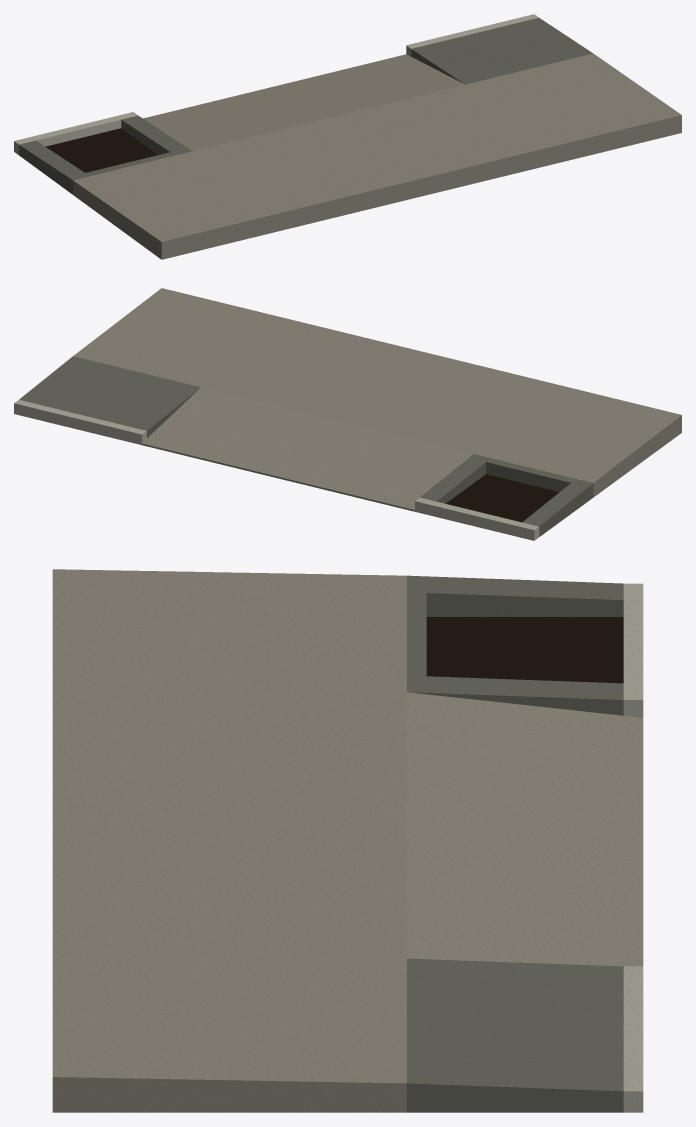
The model's file is elmina-sidewalk-tree-ready.glb.
3 views of the same model, one above another, from view 1: azimuth 30°, elevation 25°; view 2: azimuth 150°, elevation 25°; view 3: azimuth 270°, elevation 25° (orthographic). The views are drawn at different scales.
Parts seen in each view (by area): view 1: tree_ready__VehicleCrossingWalk, tree_ready__ClearWalkWest, tree_ready__VehicleApron, tree_ready__PedestrianApproach, tree_ready__ClearWalkEast, tree_ready__PedestrianService, tree_ready__TreeWellSurround, tree_ready__TreeWellSoil, tree_ready__ServiceEast, tree_ready__Curb_ServiceWest, tree_ready__ClearWalkLink, tree_ready__ServiceLink (+1 smaller); view 2: tree_ready__VehicleCrossingWalk, tree_ready__VehicleApron, tree_ready__ClearWalkWest, tree_ready__PedestrianApproach, tree_ready__TreeWellSurround, tree_ready__PedestrianService, tree_ready__ClearWalkEast, tree_ready__TreeWellSoil, tree_ready__ServiceEast, tree_ready__Curb_ServiceWest, tree_ready__Curb_PedestrianService, tree_ready__ClearWalkLink (+2 smaller); view 3: tree_ready__VehicleCrossingWalk, tree_ready__VehicleApron, tree_ready__ClearWalkWest, tree_ready__PedestrianApproach, tree_ready__ClearWalkEast, tree_ready__PedestrianService, tree_ready__TreeWellSurround, tree_ready__ServiceEast, tree_ready__TreeWellSoil, tree_ready__ClearWalkLink, tree_ready__Curb_ServiceWest, tree_ready__ServiceLink (+2 smaller).
Boxes of the visible parts, box(x1,y1,x2,y2) form: tree_ready__VehicleCrossingWalk: box(193, 84, 553, 230); tree_ready__ClearWalkWest: box(73, 151, 280, 259); tree_ready__VehicleApron: box(143, 54, 464, 150); tree_ready__PedestrianApproach: box(478, 63, 642, 160); tree_ready__ClearWalkEast: box(554, 53, 681, 142); tree_ready__PedestrianService: box(423, 27, 553, 81); tree_ready__TreeWellSurround: box(19, 115, 191, 194); tree_ready__TreeWellSoil: box(46, 128, 157, 172); tree_ready__ServiceEast: box(500, 18, 592, 62); tree_ready__Curb_ServiceWest: box(14, 112, 137, 154); tree_ready__ClearWalkLink: box(466, 81, 565, 163); tree_ready__ServiceLink: box(411, 46, 476, 84); tree_ready__VehicleCrossingWalk: box(201, 319, 562, 453); tree_ready__VehicleApron: box(142, 387, 473, 511); tree_ready__ClearWalkWest: box(474, 386, 681, 497); tree_ready__PedestrianApproach: box(113, 297, 277, 384); tree_ready__TreeWellSurround: box(420, 454, 593, 536); tree_ready__PedestrianService: box(58, 365, 188, 427); tree_ready__ClearWalkEast: box(73, 288, 200, 365); tree_ready__TreeWellSoil: box(446, 474, 559, 522); tree_ready__ServiceEast: box(19, 356, 111, 408); tree_ready__Curb_ServiceWest: box(415, 497, 539, 540); tree_ready__Curb_PedestrianService: box(53, 409, 134, 442); tree_ready__ClearWalkLink: box(189, 316, 289, 387); tree_ready__VehicleCrossingWalk: box(52, 685, 406, 958); tree_ready__VehicleApron: box(407, 692, 643, 966); tree_ready__ClearWalkWest: box(52, 569, 406, 692); tree_ready__PedestrianApproach: box(52, 964, 406, 1044); tree_ready__ClearWalkEast: box(52, 1038, 406, 1112); tree_ready__PedestrianService: box(407, 970, 623, 1052); tree_ready__TreeWellSurround: box(407, 575, 623, 715); tree_ready__ServiceEast: box(407, 1045, 623, 1112); tree_ready__TreeWellSoil: box(426, 617, 623, 683); tree_ready__ClearWalkLink: box(52, 952, 406, 970); tree_ready__Curb_ServiceWest: box(623, 583, 643, 717); tree_ready__ServiceLink: box(407, 958, 623, 977).
Bounding box in the file's own units: 6.1 × 0.2 × 3.
Materials: 4 (4 with a texture image).
